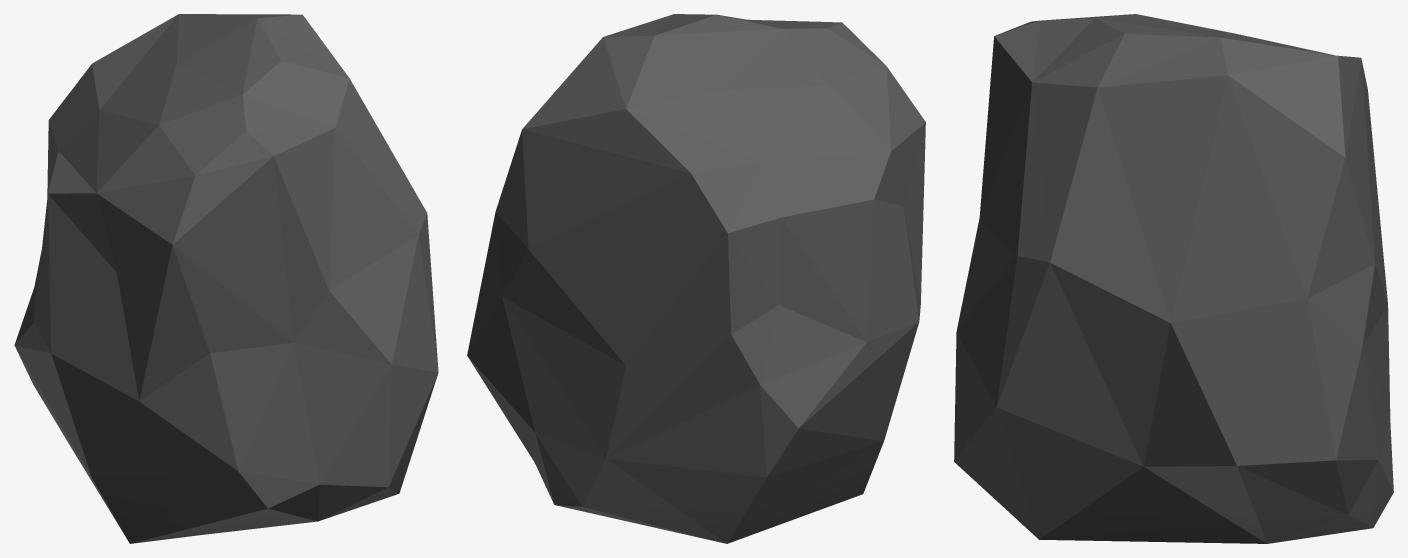
File: um_rock004.FBX
The picture shows the model from 3 angles, left to right: view 1: azimuth 30°, elevation 25°; view 2: azimuth 150°, elevation 25°; view 3: azimuth 270°, elevation 25°; orthographic projection. The views are drawn at different scales.
Parts seen in each view (by area): view 1: um_rock004; view 2: um_rock004; view 3: um_rock004.
Boxes of the visible parts, x1=… form: um_rock004: x1=14, y1=14, x2=438, y2=543; um_rock004: x1=467, y1=14, x2=925, y2=543; um_rock004: x1=954, y1=14, x2=1393, y2=543.
Size of the model in its own units: 1.16 by 1.34 by 1.02.
